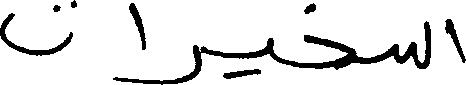X: (0, 0, 70, 60), (305, 0, 353, 74), (146, 40, 199, 84), (396, 16, 428, 73), (131, 0, 144, 84), (447, 14, 465, 67), (268, 33, 272, 62)
